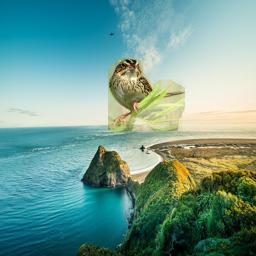Sparrow: (108, 57, 185, 131)
